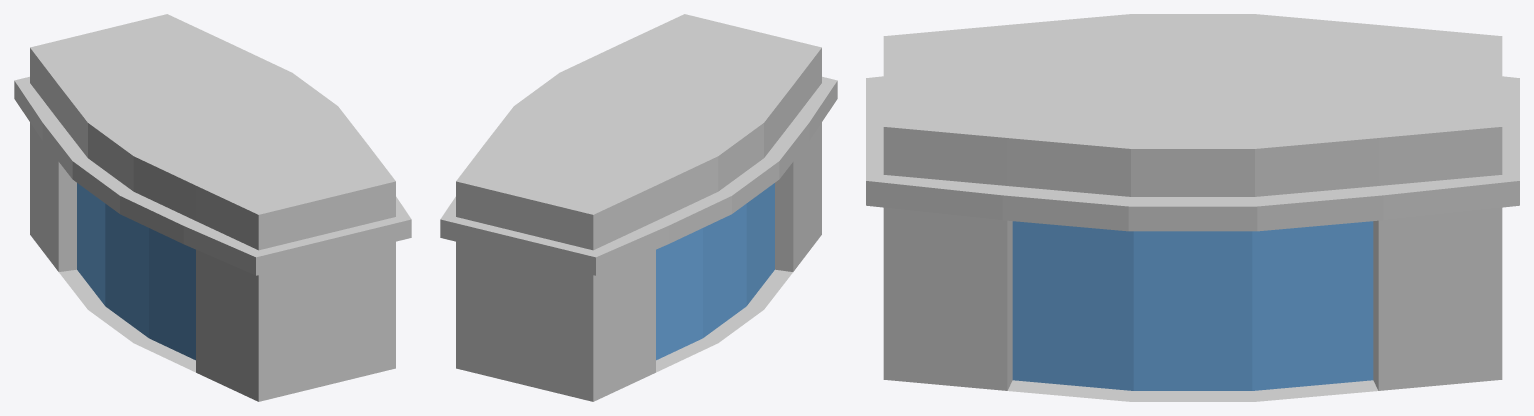
The model's file is building_1x2_4_g.glb.
The picture shows the model from 3 angles, left to right: view 1: azimuth 30°, elevation 25°; view 2: azimuth 150°, elevation 25°; view 3: azimuth 270°, elevation 25°; orthographic projection. The views are drawn at different scales.
Visible parts, largest first — view 1: Cube; view 2: Cube; view 3: Cube.
Boxes of the visible parts, box(x1,y1,x2,y2) form: Cube: box(14, 14, 411, 401); Cube: box(440, 14, 837, 401); Cube: box(866, 14, 1519, 401).
Size of the model in its own units: 2.09 by 1.6 by 3.75.
